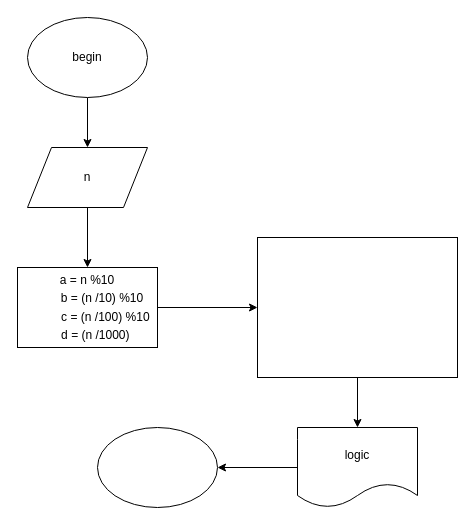
This 475x525 diagram has some shape labels left out. The shapes that lost their labels are listed below. From the top down, each one's box as (x1, y1, x2, y2) in pixels, then its label:
(256, 236, 458, 378): logic = (a < b && b < c && c < d) || (a > b && b > c && c > d)
(96, 426, 218, 508): end
